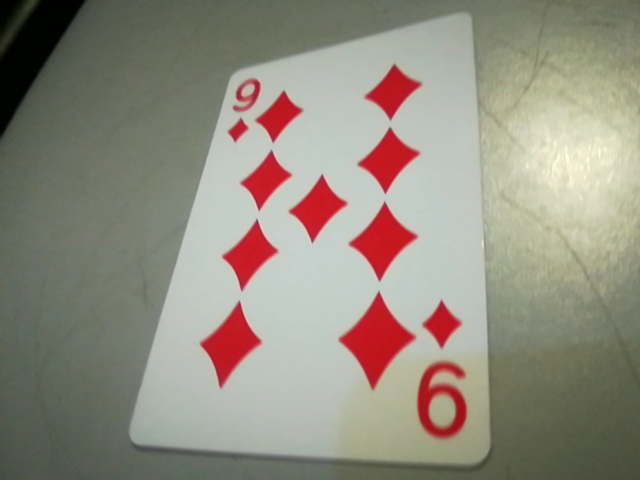fk 9: (406, 293, 484, 451), (211, 70, 274, 148)
